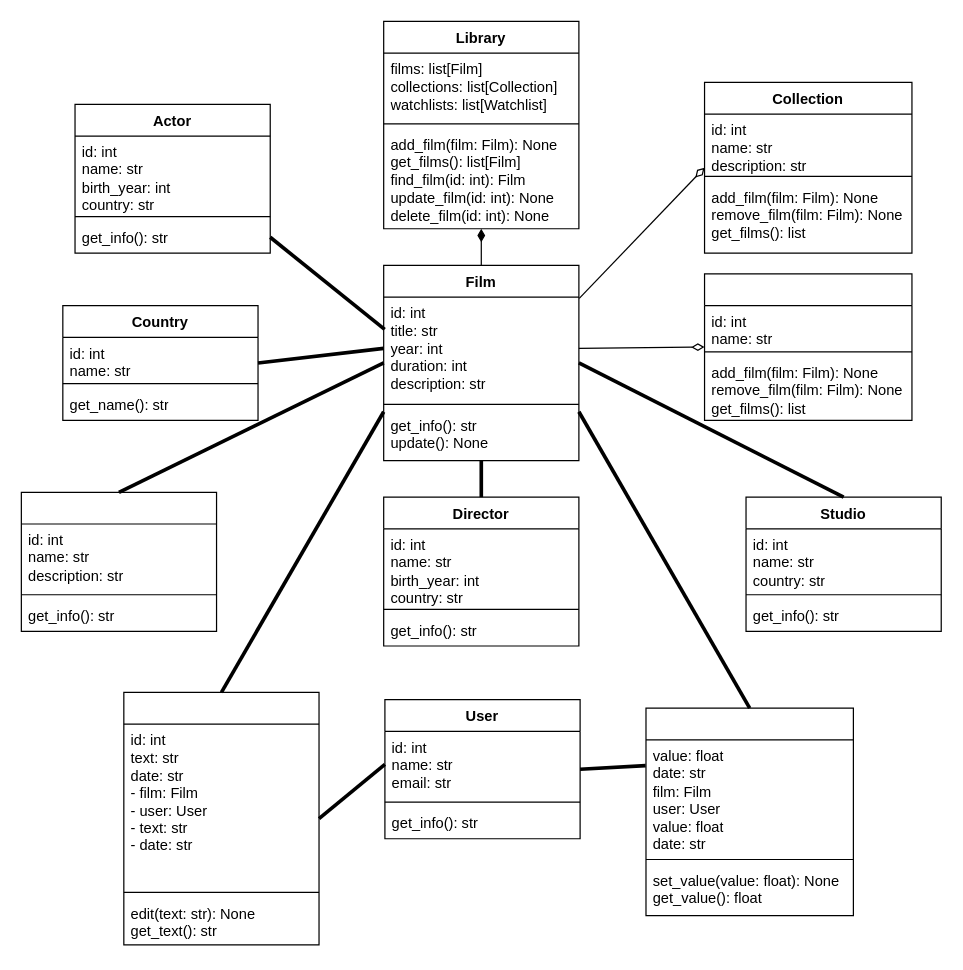
This 963x970 diagram has some shape labels left out. The box of each missing label's shape, as (x1, y1, x2, y2) in pixels:
Genre: (20, 491, 217, 631)
Rating: (645, 707, 853, 916)
Review: (123, 691, 319, 945)
Watchlist: (703, 273, 912, 420)
